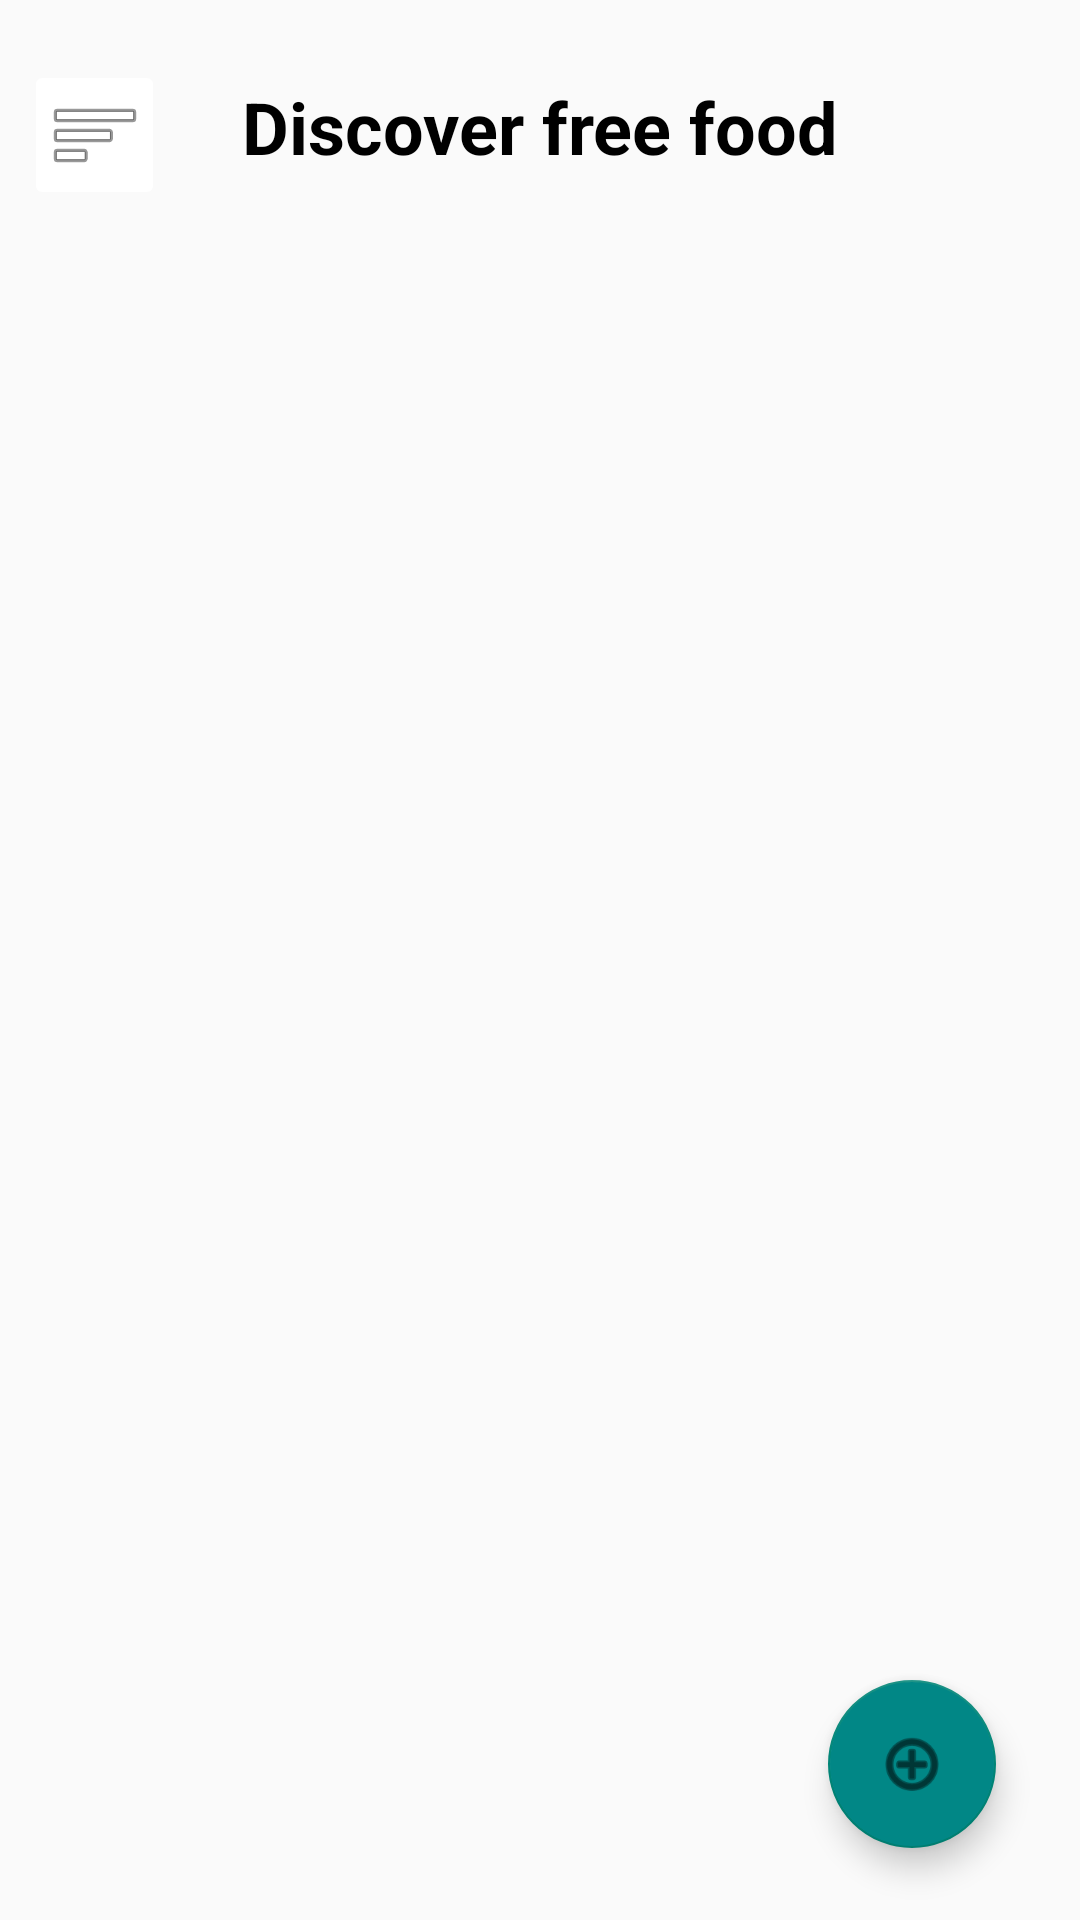

Where to tap for icons on this 1080 x 1920 app screen, as point (x, y):
add: point (912, 1764)
sort by size: point (95, 135)
